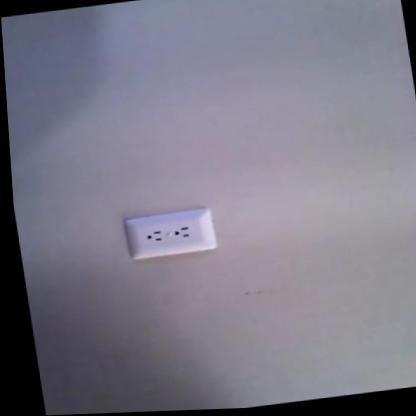OUTLET: (122, 207, 218, 262)
